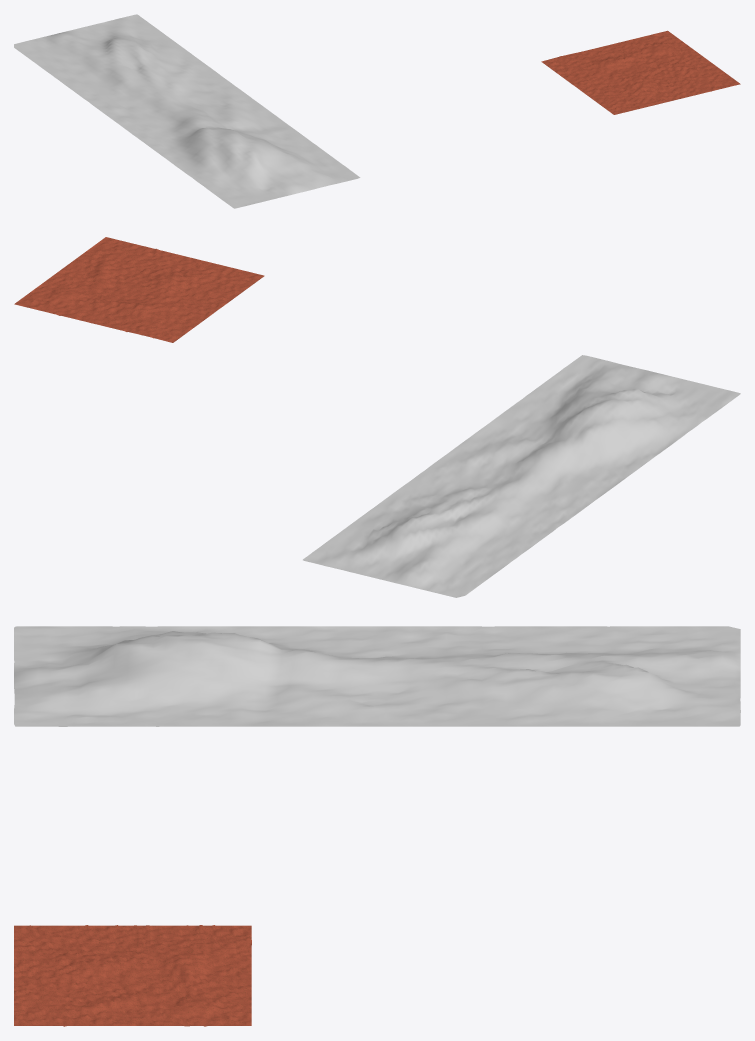
Rendered from sand tiles.obj.
3 views of the same model, one above another, from view 1: azimuth 30°, elevation 25°; view 2: azimuth 150°, elevation 25°; view 3: azimuth 270°, elevation 25° (orthographic). The views are drawn at different scales.
Visible parts, largest first — view 1: Plane.001, Plane.002; view 2: Plane.001, Plane.002; view 3: Plane.001, Plane.002.
Part boxes in pixels (x1=…): Plane.001: x1=14, y1=14, x2=360, y2=208; Plane.002: x1=541, y1=30, x2=740, y2=114; Plane.001: x1=303, y1=355, x2=740, y2=597; Plane.002: x1=14, y1=237, x2=264, y2=342; Plane.001: x1=14, y1=626, x2=740, y2=726; Plane.002: x1=14, y1=925, x2=251, y2=1026.
Bounding box in the file's own units: 104 × 3.87 × 79.58.
